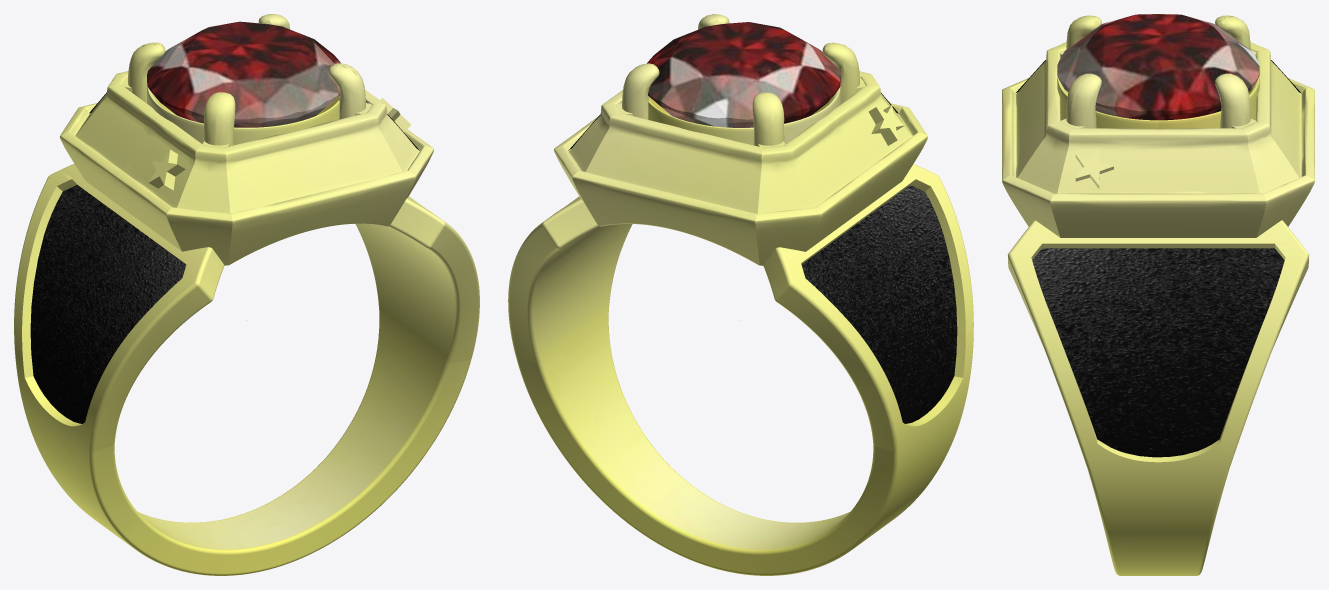
The model's file is ring29.glb.
3 renders of one model, left to right at view 1: azimuth 30°, elevation 25°; view 2: azimuth 150°, elevation 25°; view 3: azimuth 270°, elevation 25°, orthographic.
Visible parts, largest first — view 1: body, black, core; view 2: body, black, core; view 3: body, black, core.
Boxes of the visible parts, <box> form: body: <box>14,14,479,575</box>; black: <box>30,92,419,423</box>; core: <box>147,21,340,127</box>; body: <box>508,14,973,575</box>; black: <box>568,93,957,423</box>; core: <box>647,22,840,127</box>; body: <box>1002,15,1314,575</box>; black: <box>1015,60,1301,457</box>; core: <box>1057,14,1259,120</box>.
Size of the model in its own units: 22.16 by 28.16 by 15.44.
Materials: 4 (4 with a texture image).
